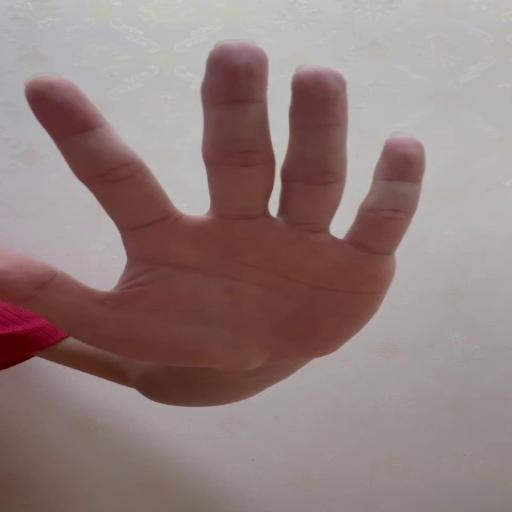open_palm: (0, 39, 427, 367)
